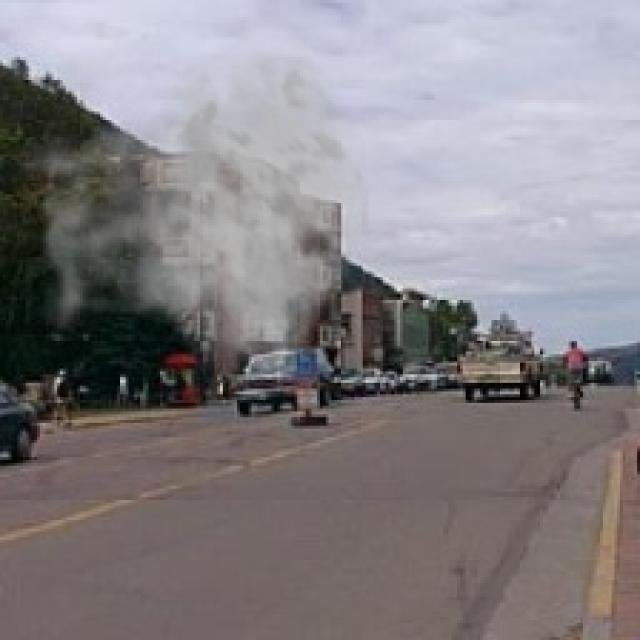smoke: (9, 34, 372, 397)
